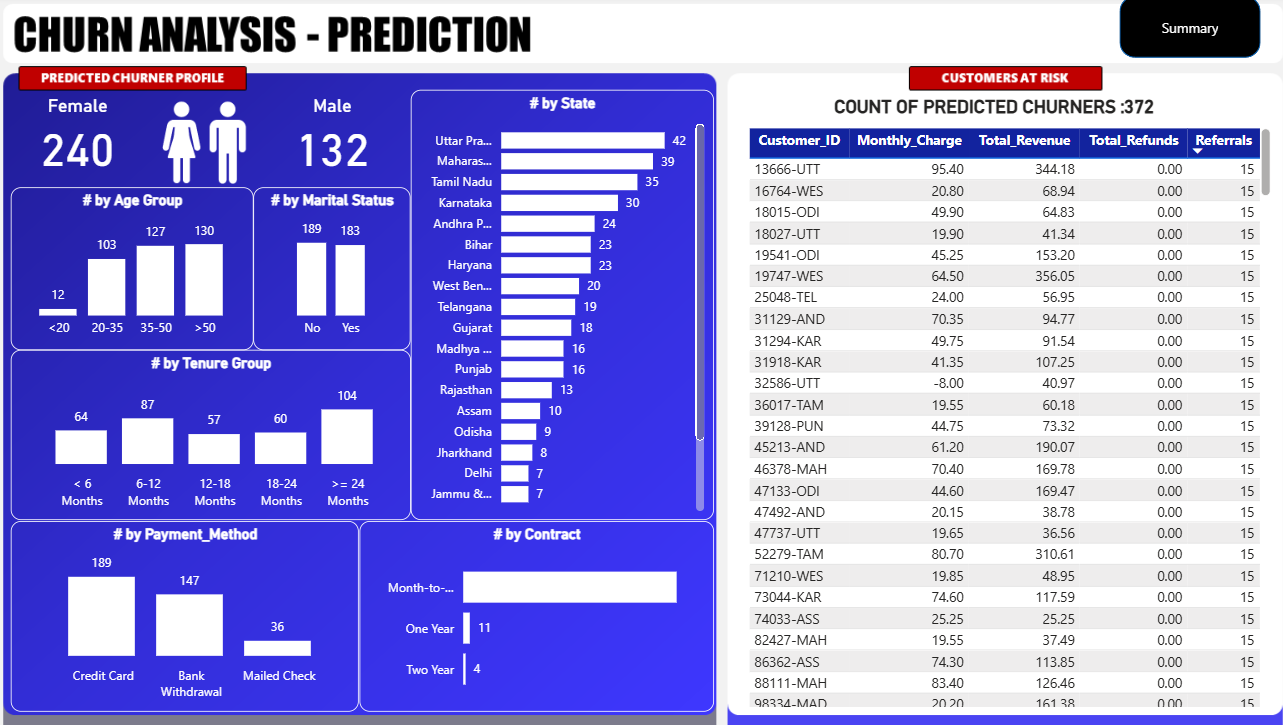

Layout of this report page (visuals, bound fields, positions):
{"tool":"powerbi","page":{"name":"Churn Prediction","canvas":[1280,720],"ordinal":2},"visuals":[{"type":"tableEx","fields":{"Values":["Predictions.Customer_ID","Sum(Predictions.Monthly_Charge)","Sum(Predictions.Total_Revenue)","Sum(Predictions.Total_Refunds)","Sum(Predictions.Number_of_Referrals)"]},"box":[737.3,125.5,522.3,577.1],"z":0},{"type":"card","fields":{"Values":["tbl_measures.Title Predicted Churner"]},"box":[722.8,92.3,522.3,33.2],"z":1000},{"type":"card","title":"Female","fields":{"Values":["tbl_measures.Count Predicted Churner"]},"box":[28.9,96.7,109.6,77.9],"z":2000},{"type":"card","title":"Male","fields":{"Values":["tbl_measures.Count Predicted Churner"]},"box":[277,96.7,114,77.9],"z":3000},{"type":"clusteredColumnChart","fields":{"Category":["mapping_AgeGrp.Age Group"],"Y":["CountNonNull(Predictions.Customer_ID)"]},"box":[18.8,187.6,238.1,160.1],"z":4000},{"type":"clusteredColumnChart","fields":{"Y":["CountNonNull(Predictions.Customer_ID)"],"Category":["Predictions.Married"]},"box":[256.8,187.6,154.4,160.1],"z":5000},{"type":"clusteredColumnChart","fields":{"Y":["CountNonNull(Predictions.Customer_ID)"],"Category":["mapping_TenureGrp.Tenure Group"]},"box":[18.8,347.7,392.4,167.4],"z":6000},{"type":"clusteredColumnChart","fields":{"Y":["CountNonNull(Predictions.Customer_ID)"],"Category":["Predictions.Payment_Method"]},"box":[18.8,515.1,341.9,187.6],"z":7000},{"type":"clusteredBarChart","fields":{"Category":["Predictions.Contract"],"Y":["CountNonNull(Predictions.Customer_ID)"]},"box":[360.7,515.1,347.7,187.6],"z":8000},{"type":"clusteredBarChart","fields":{"Category":["Predictions.State"],"Y":["CountNonNull(Predictions.Customer_ID)"]},"box":[411.2,92.3,297.2,422.7],"z":9000},{"type":"image","box":[138.5,92.3,139.9,102.4],"z":10000},{"type":"shape","box":[1106.6,0,138.5,60.6],"z":11000}]}

Visuals, with their boxes in screenshot pixels (x1, y1, x2, y2), scaled from the page's 1280x720 canvas onto the 1283x725 screenshot:
tableEx - Predictions.Customer_ID x Sum(Predictions.Monthly_Charge): <region>739, 126, 1263, 707</region>
card - tbl_measures.Title Predicted Churner: <region>724, 93, 1248, 126</region>
"Female" card: <region>29, 97, 139, 176</region>
"Male" card: <region>278, 97, 392, 176</region>
clusteredColumnChart - mapping_AgeGrp.Age Group x CountNonNull(Predictions.Customer_ID): <region>19, 189, 258, 350</region>
clusteredColumnChart - CountNonNull(Predictions.Customer_ID) x Predictions.Married: <region>257, 189, 412, 350</region>
clusteredColumnChart - CountNonNull(Predictions.Customer_ID) x mapping_TenureGrp.Tenure Group: <region>19, 350, 412, 519</region>
clusteredColumnChart - CountNonNull(Predictions.Customer_ID) x Predictions.Payment_Method: <region>19, 519, 362, 708</region>
clusteredBarChart - Predictions.Contract x CountNonNull(Predictions.Customer_ID): <region>362, 519, 710, 708</region>
clusteredBarChart - Predictions.State x CountNonNull(Predictions.Customer_ID): <region>412, 93, 710, 519</region>
image: <region>139, 93, 279, 196</region>
shape: <region>1109, 0, 1248, 61</region>
